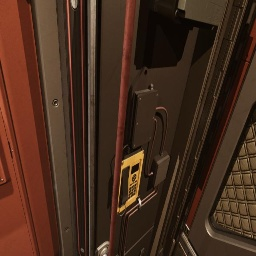EmergencyPhone ,: (117, 143, 144, 216)
